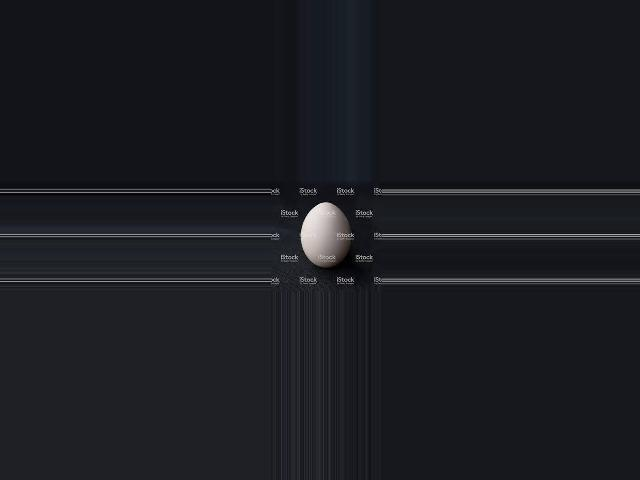egg: (301, 202, 351, 268)
